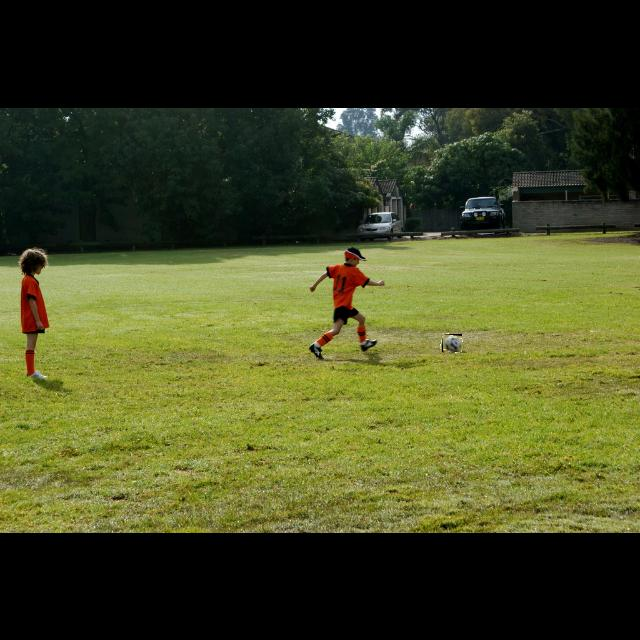Football: (442, 334, 462, 352)
